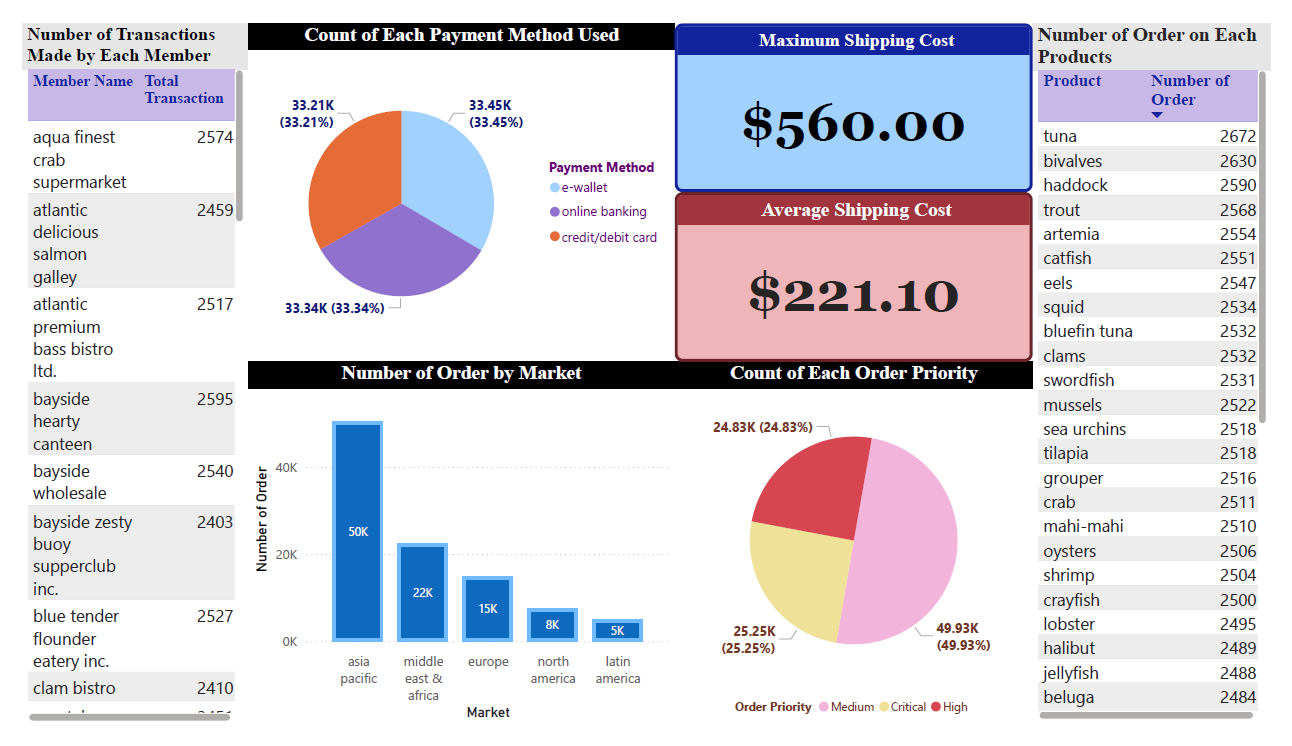

This screenshot's page, from the dashboard's own definition file:
{"tool":"powerbi","page":{"name":"Sales Information","canvas":[1280,720],"ordinal":0},"visuals":[{"type":"tableEx","title":"Number of Transactions Made by Each Member","fields":{"Values":["member data.member name","CountNonNull(orderdata.member id)"]},"box":[0,0,231.6,721.1],"z":0},{"type":"tableEx","title":"Number of Order on Each Products","fields":{"Values":["productdata.product","CountNonNull(orderdata.product id)"]},"box":[1036.3,0,244.5,718.9],"z":1000},{"type":"pieChart","title":"Count of Each Payment Method Used","fields":{"Category":["orderdata.payment method"],"Y":["CountNonNull(orderdata.payment method)"]},"box":[231.5,0,437.2,346.5],"z":2000},{"type":"clusteredColumnChart","title":"Number of Order by Market","fields":{"Category":["country.market"],"Y":["CountNonNull(orderdata.member id)"]},"box":[231.5,346.5,437.2,372.4],"z":3000},{"type":"pieChart","title":"Count of Each Order Priority","fields":{"Category":["orderdata.orderPriority"],"Y":["CountNonNull(orderdata.orderPriority)"]},"box":[668.7,346.5,367.6,372.4],"z":4000},{"type":"card","title":"Maximum Shipping Cost","fields":{"Values":["Max(orderdata.shipping cost)"]},"box":[668.7,0,367.6,173.3],"z":5000},{"type":"card","title":"Average Shipping Cost","fields":{"Values":["Avg(orderdata.shipping cost)"]},"box":[669,173,367,174],"z":6000}]}

Visuals, with their boxes in screenshot pixels (x1, y1, x2, y2), scaled from the page's 1280x720 canvas onto the 1292x746 screenshot:
"Number of Transactions Made by Each Member" tableEx: detection(0, 0, 234, 745)
"Number of Order on Each Products" tableEx: detection(1046, 0, 1291, 745)
"Count of Each Payment Method Used" pieChart: detection(234, 0, 675, 359)
"Number of Order by Market" clusteredColumnChart: detection(234, 359, 675, 745)
"Count of Each Order Priority" pieChart: detection(675, 359, 1046, 745)
"Maximum Shipping Cost" card: detection(675, 0, 1046, 180)
"Average Shipping Cost" card: detection(675, 179, 1046, 360)
